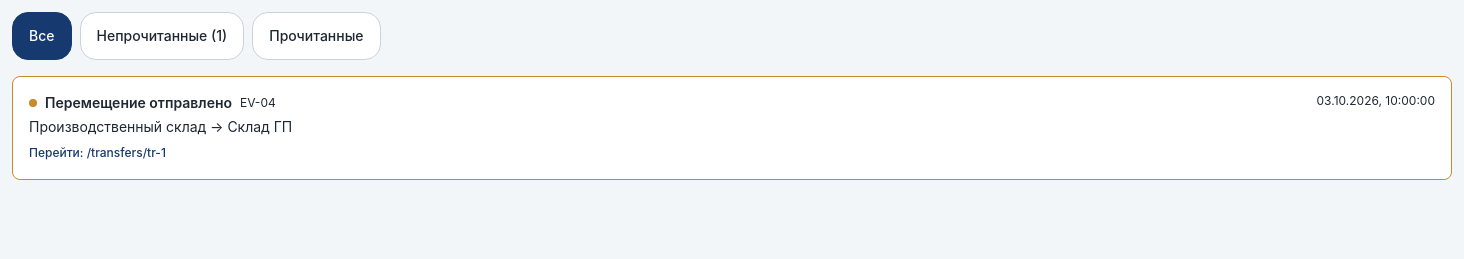
Test case: Центр уведомлений: переход и прочитанность (M09 BR-2, BR-4) › при ошибке отметки показывает сообщение и не уводит со страницы
The width and height of the screenshot is (1464, 259).
Click the button "Перемещение отправлено": (138, 102) [12, 76, 1452, 180]
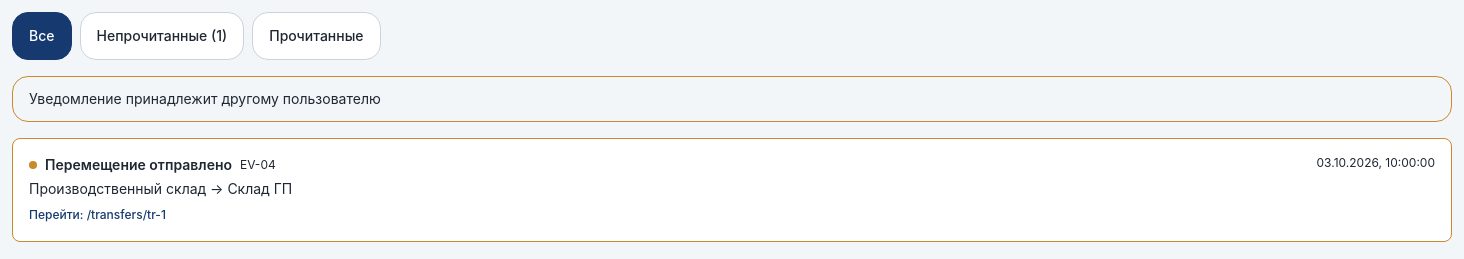
Expected: the text "Уведомление принадлежит другому пользователю" is shown, [12, 76, 1452, 122]
